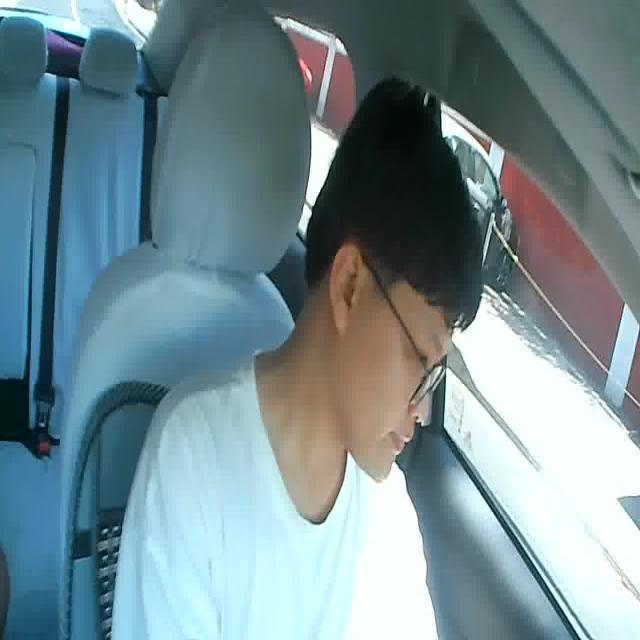Eye-Open: (412, 347, 437, 372)
Inattentive: (293, 77, 482, 481)
Normal: (387, 425, 412, 453)
